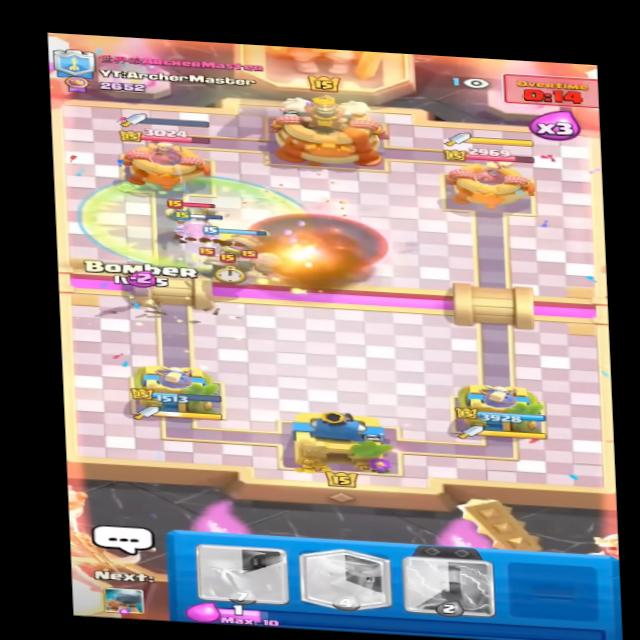knight: (164, 189, 233, 232)
